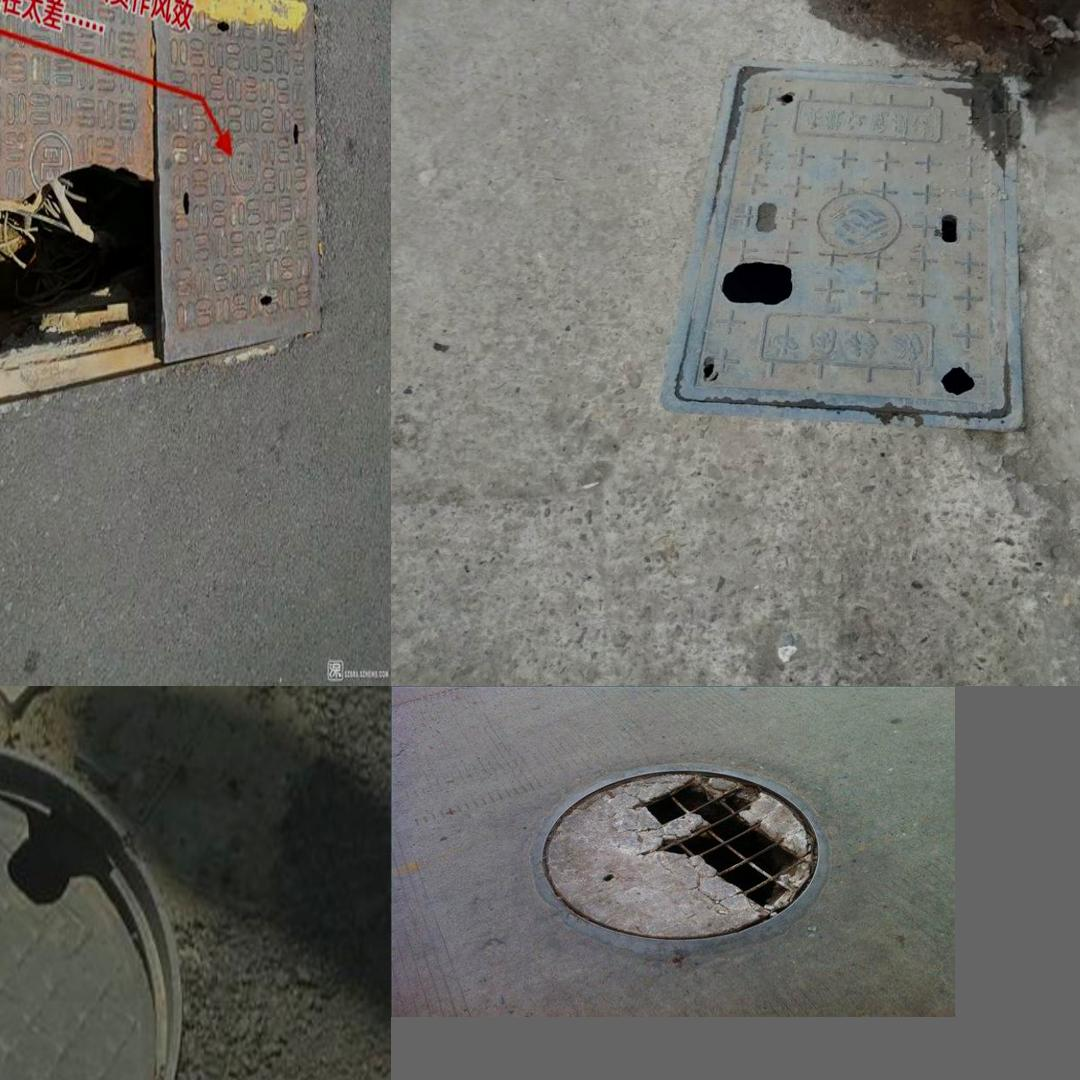broke: (0, 0, 348, 416), (658, 59, 1027, 429), (521, 759, 848, 954), (0, 740, 185, 1080)
